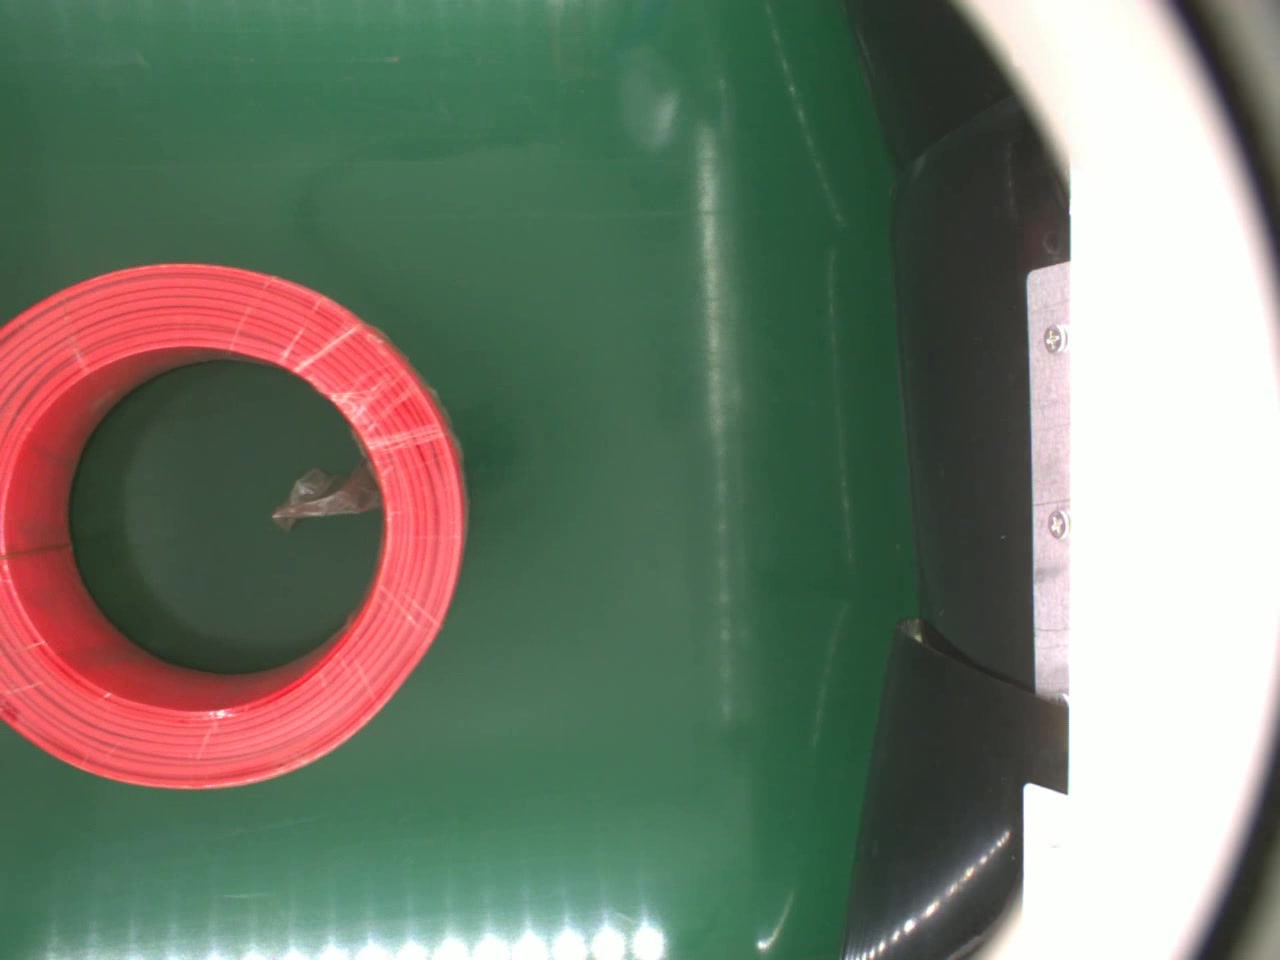red: (0, 262, 467, 800)
